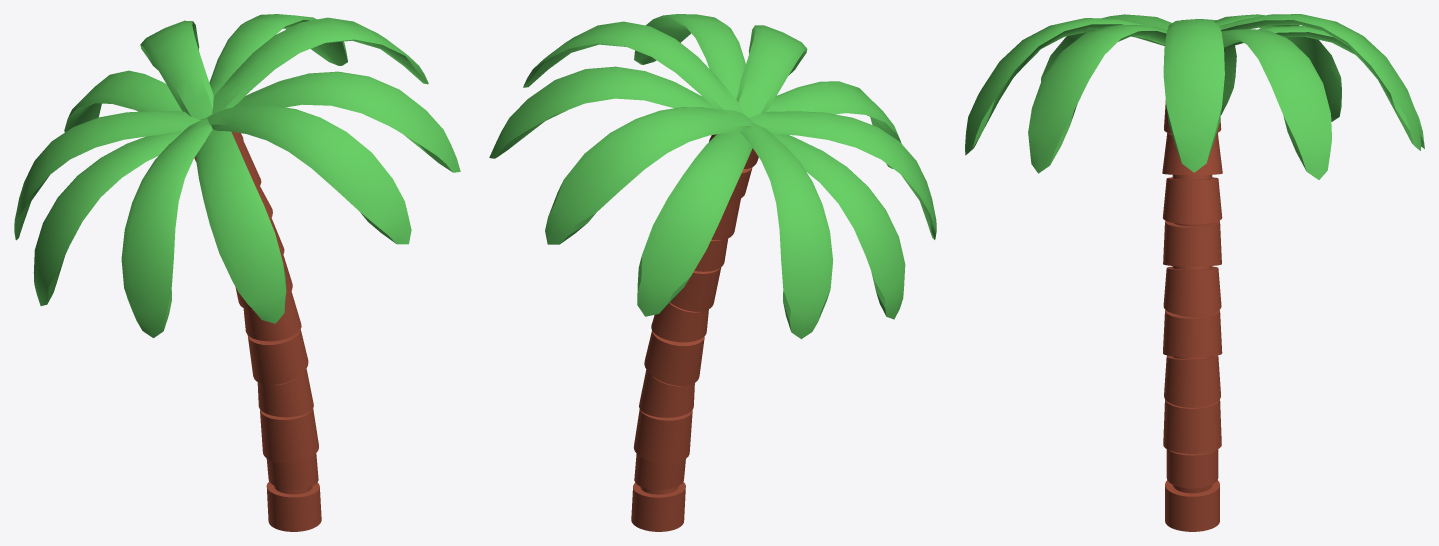
Rendered from Coqueiro.fbx.
The picture shows the model from 3 angles, left to right: view 1: azimuth 30°, elevation 25°; view 2: azimuth 150°, elevation 25°; view 3: azimuth 270°, elevation 25°; orthographic projection. The views are drawn at different scales.
Visible parts, largest first — view 1: coqueiro; view 2: coqueiro; view 3: coqueiro.
Boxes of the visible parts, x1,y1,x2,y2 form: coqueiro: (14, 14, 460, 531); coqueiro: (489, 14, 936, 531); coqueiro: (965, 14, 1424, 531).
Bounding box in the file's own units: 186 × 229 × 189.
